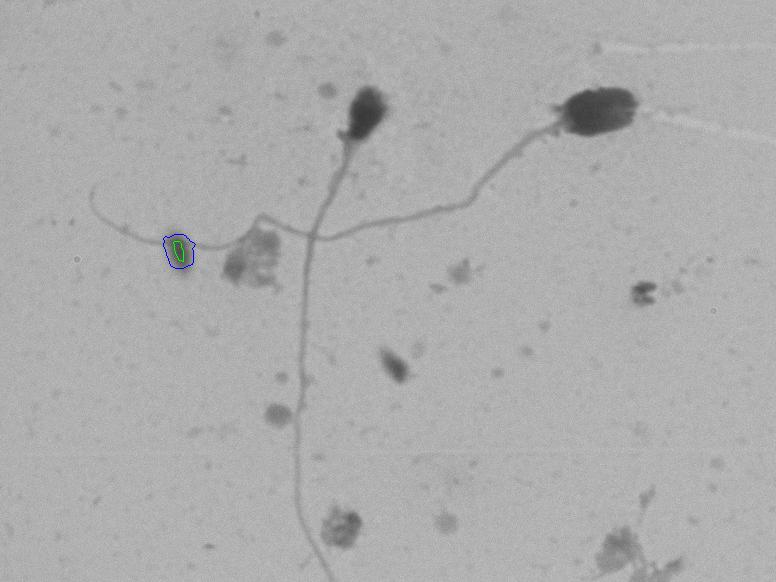Abnormal: (280, 56, 392, 553), (426, 69, 701, 225)
